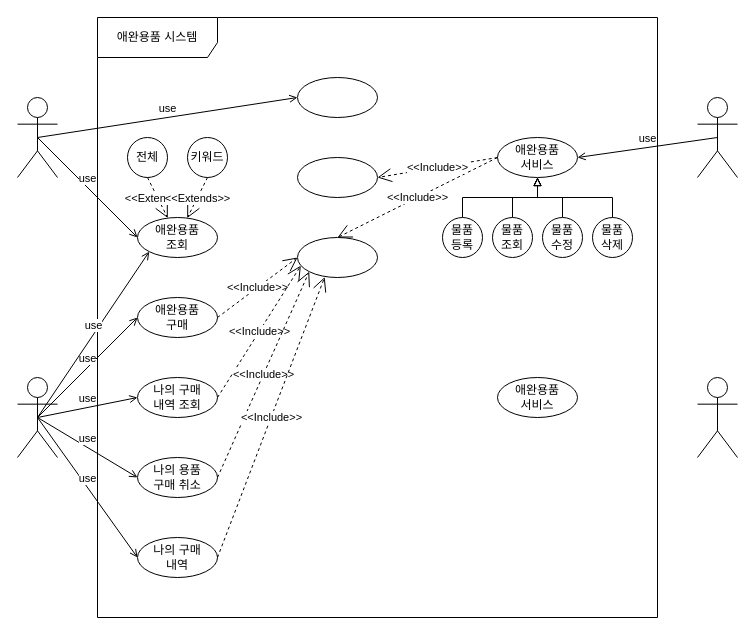
The diagram is 755 pixels wide and 635 high, and some of its shapes have lost their labels. The centre of each missing label's shape, as x and y in pixels:
계정 전환: the point at 337,177
관리자: the point at 717,417
로그인: the point at 337,257
비회원: the point at 37,137
판매자: the point at 717,137
회원: the point at 37,417
회원가입: the point at 337,97
